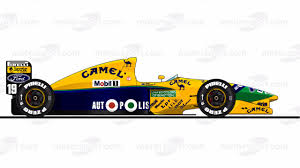FormulaOneCar: (4, 51, 283, 125)
